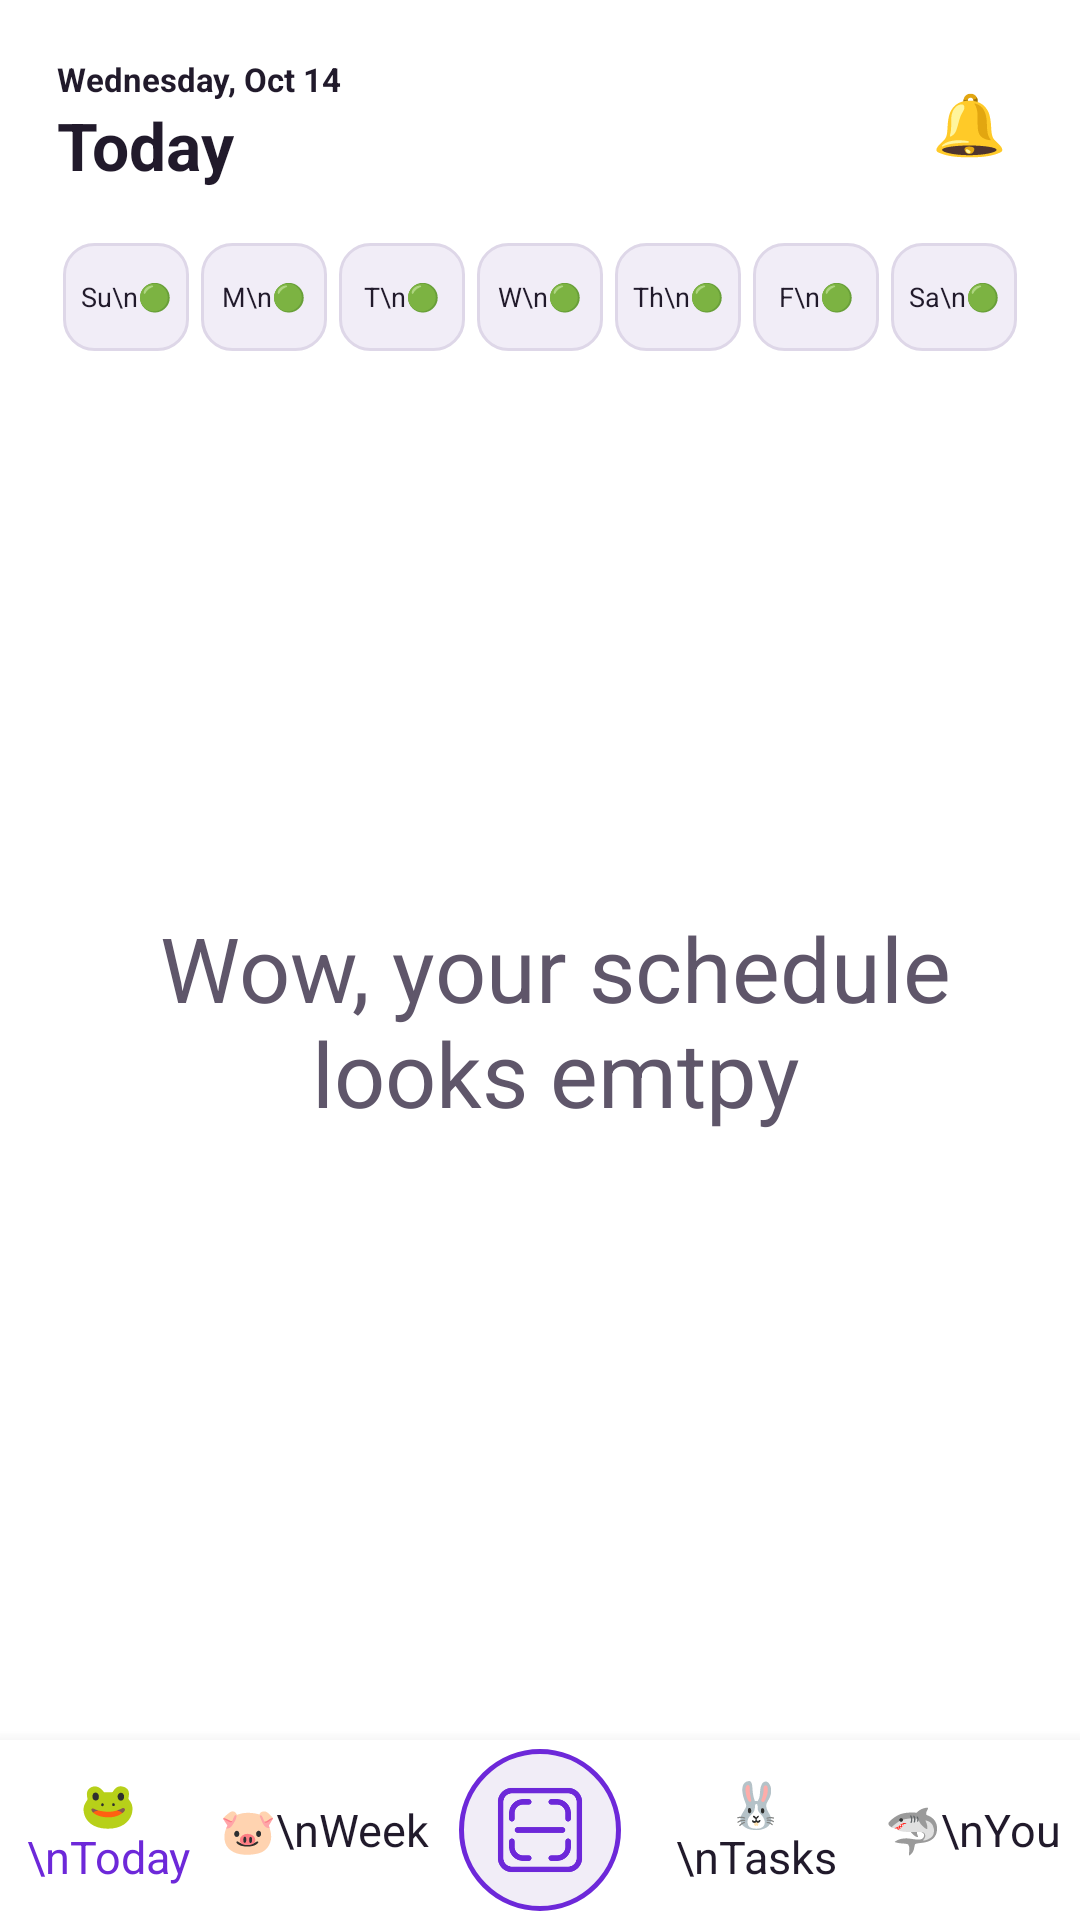

Where icons sit on this 1080w x 1920h app screen, as (x1, y1, x2, y2):
Scan Schedule Camera: (459, 1749, 621, 1911)
